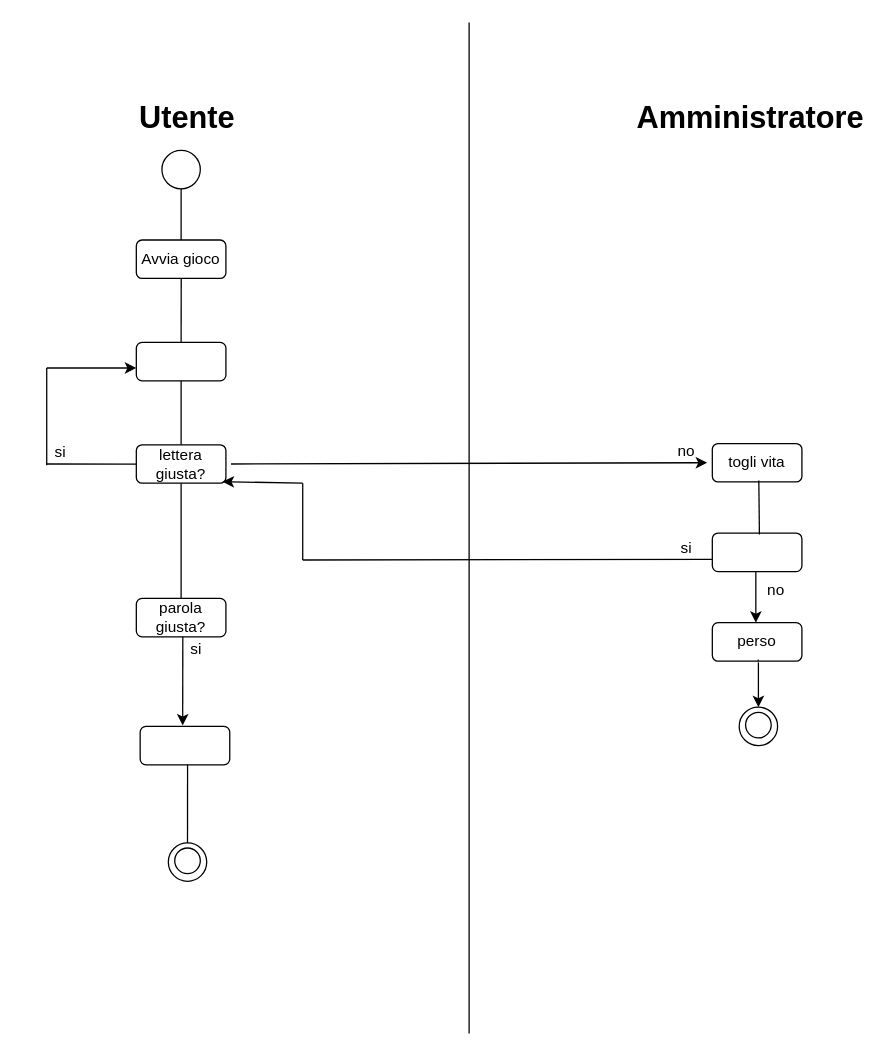
Some shapes in this 886 by 1057 pixel diagram are drawn without their labels. Here are the shapes that lost their labels. From the top down, the centre of each, then its label:
At pixel 180 361: "Inserisce lettera".
At pixel 756 552: "vite ancora disponbili?".
At pixel 184 745: "vinto".
